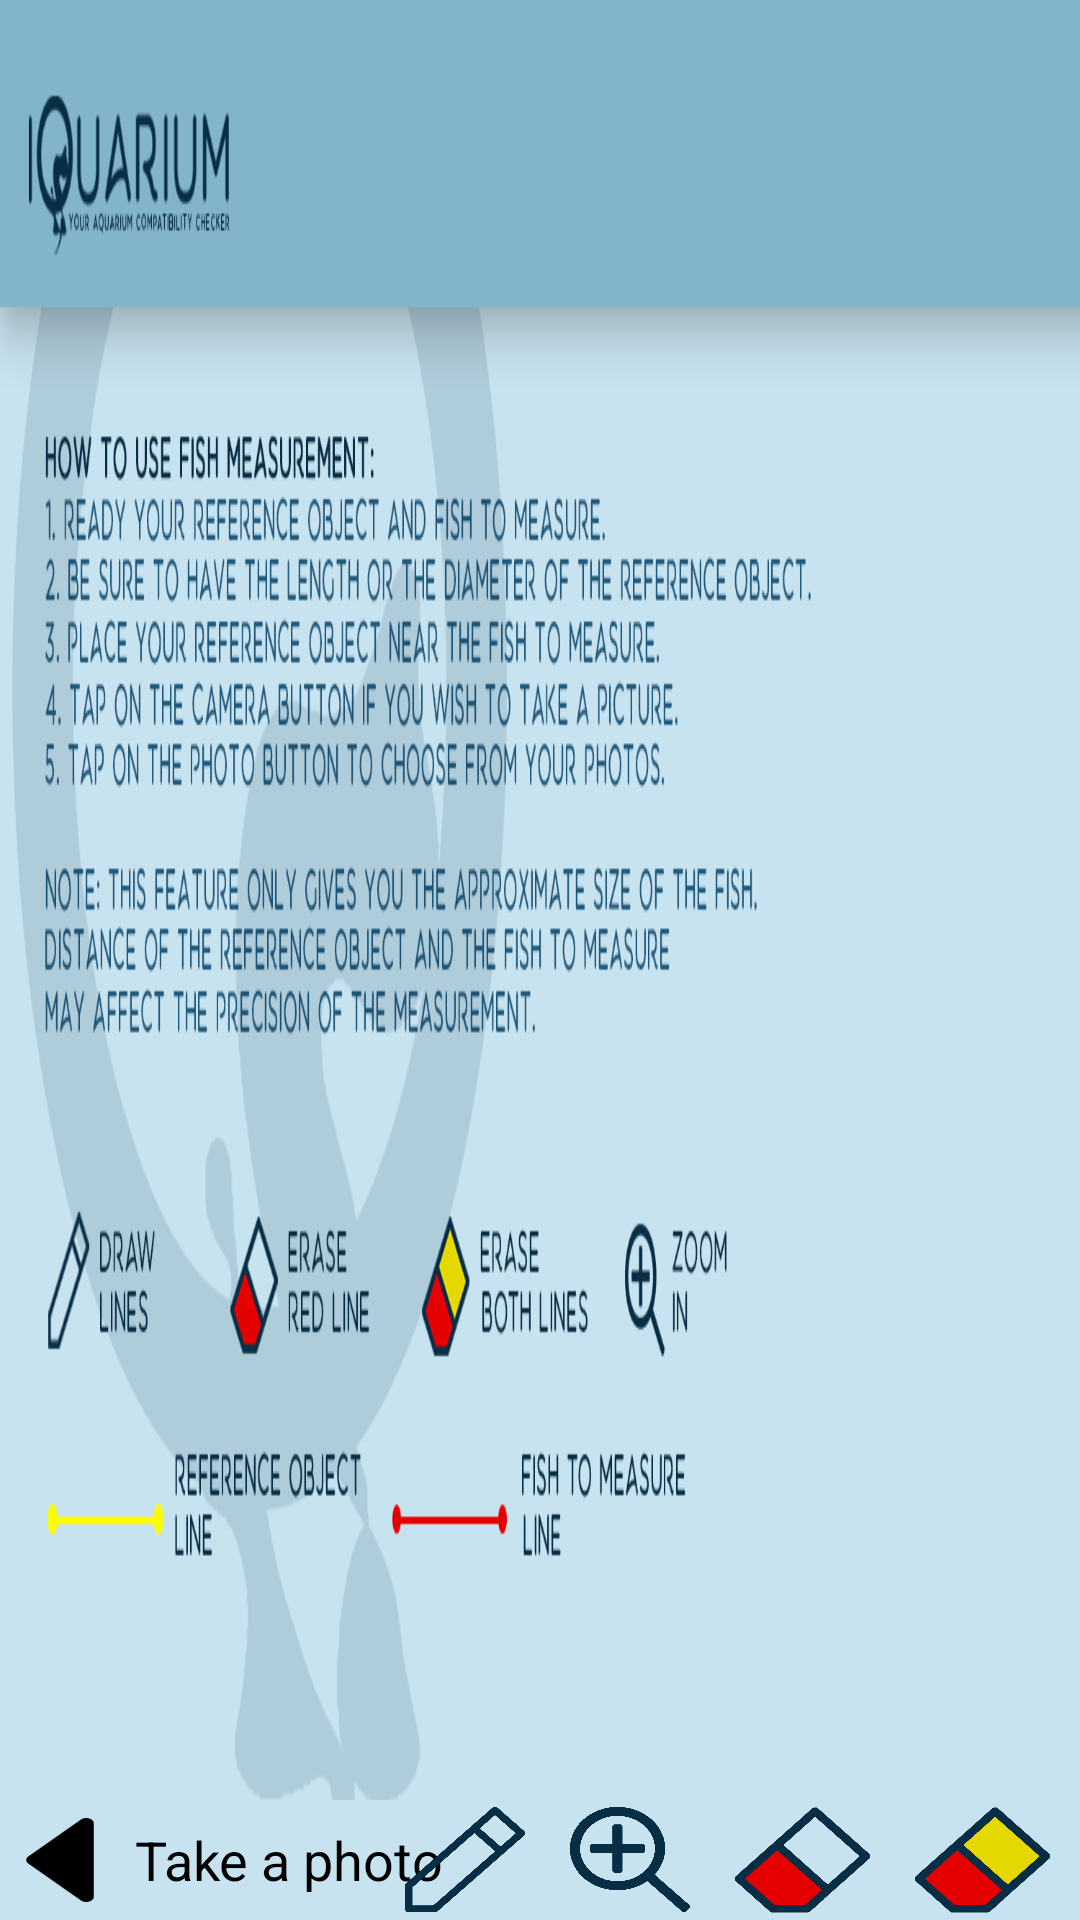

Screen size 1080*1920. Icon name, then its center in pixels as (x=x, y=y):
leftarrow: (x=60, y=1860)
pencil: (x=465, y=1859)
redlineeraser: (x=802, y=1860)
zoom: (x=630, y=1859)
